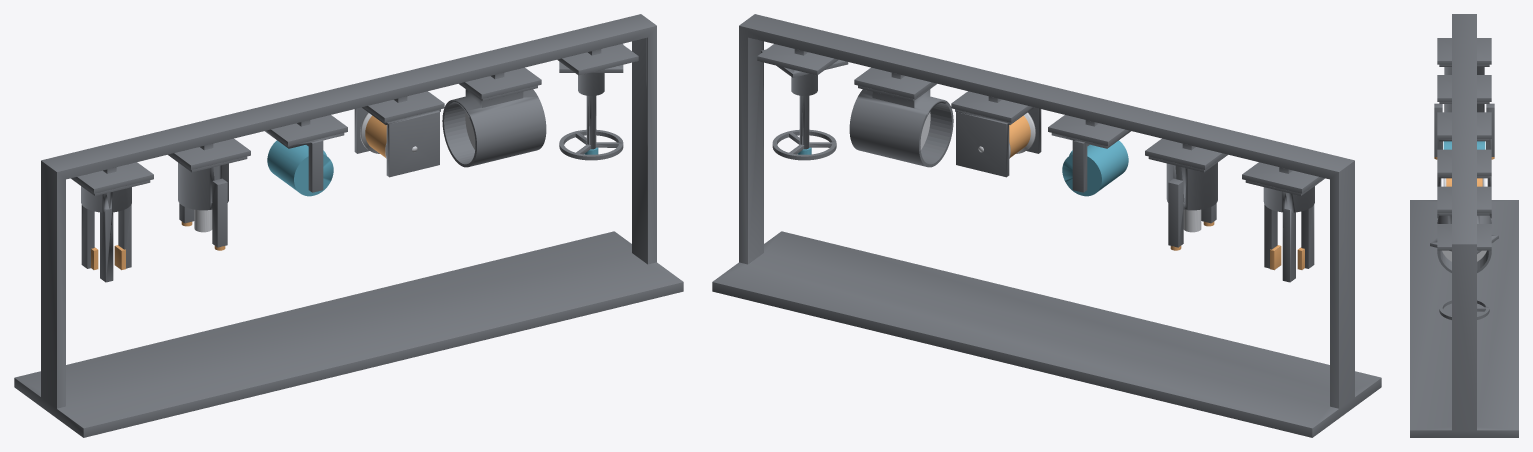
Rendered from prometheus-tool-rack.glb.
3 renders of one model, left to right at view 1: azimuth 30°, elevation 25°; view 2: azimuth 150°, elevation 25°; view 3: azimuth 270°, elevation 25°, orthographic. The views are drawn at different scales.
Visible parts, largest first — view 1: Tool Rack V1; view 2: Tool Rack V1; view 3: Tool Rack V1.
Boxes of the visible parts, x1,y1,x2,y2 form: Tool Rack V1: (14, 14, 683, 437); Tool Rack V1: (712, 14, 1381, 437); Tool Rack V1: (1410, 14, 1518, 437).
Bounding box in the file's own units: 1.3 × 0.5099 × 0.2599.
